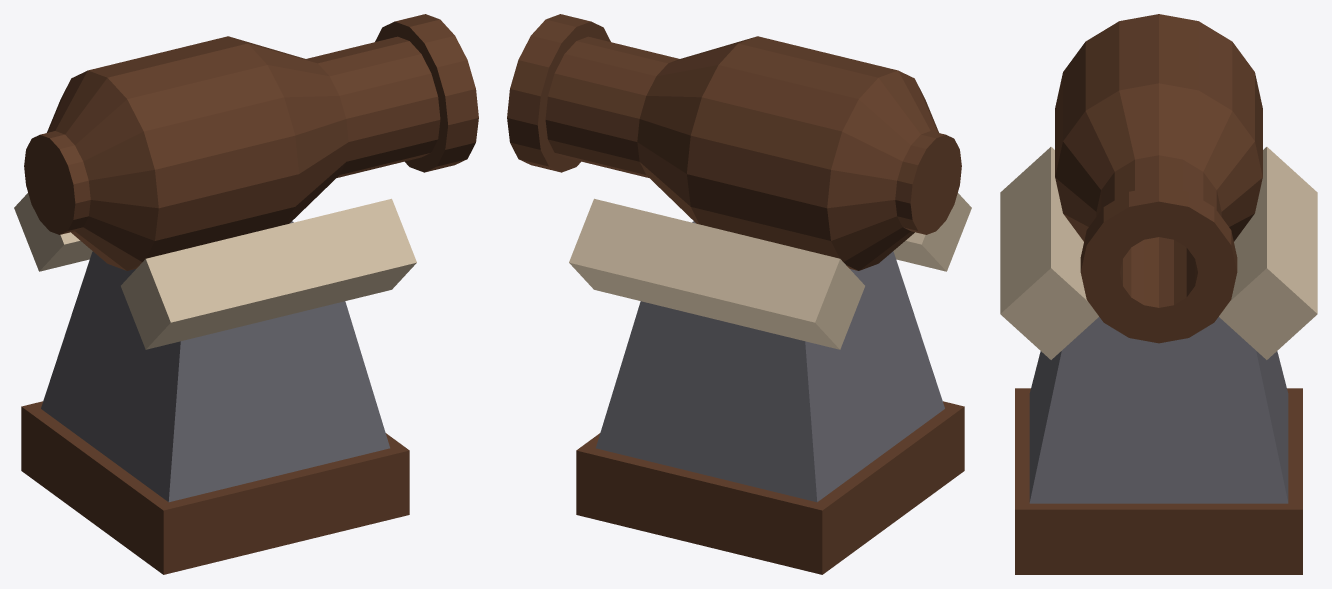
The model's file is 690 Cannon.fbx.
The picture shows the model from 3 angles, left to right: view 1: azimuth 30°, elevation 25°; view 2: azimuth 150°, elevation 25°; view 3: azimuth 270°, elevation 25°; orthographic projection.
Visible parts, largest first — view 1: Cannon; view 2: Cannon; view 3: Cannon.
Part boxes in pixels (<box>): Cannon: <box>14,14,478,574</box>; Cannon: <box>507,14,971,574</box>; Cannon: <box>1000,14,1317,574</box>.
Size of the model in its own units: 635 by 685 by 441.
